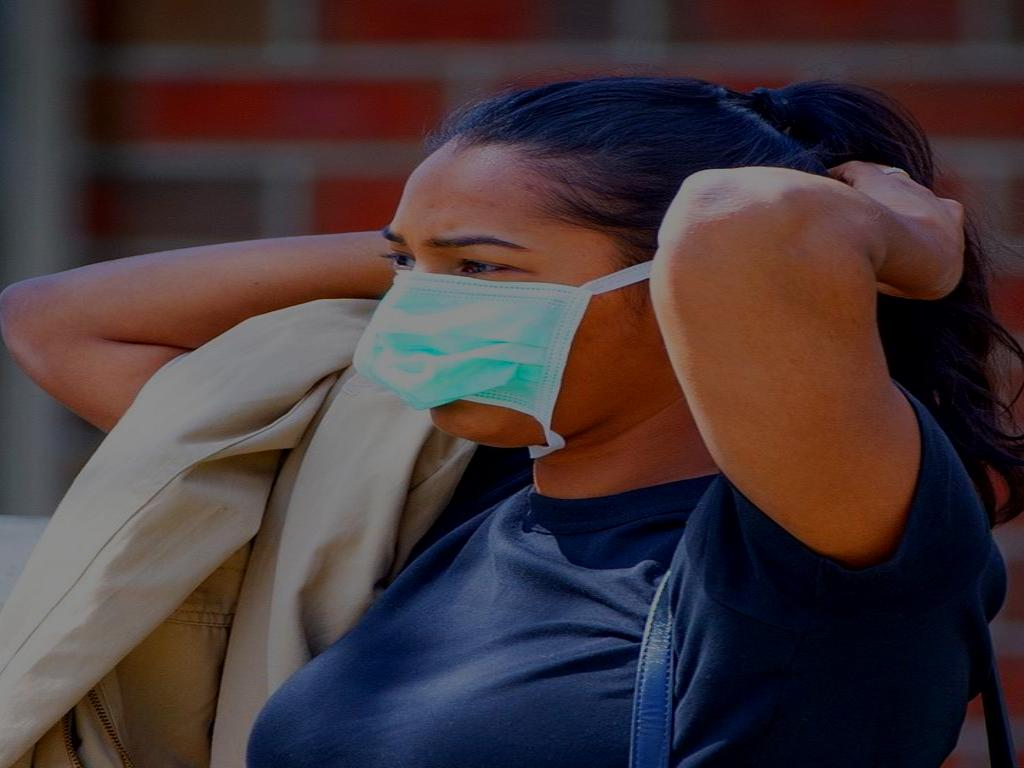mask_weared_incorrect: (346, 75, 825, 465)
